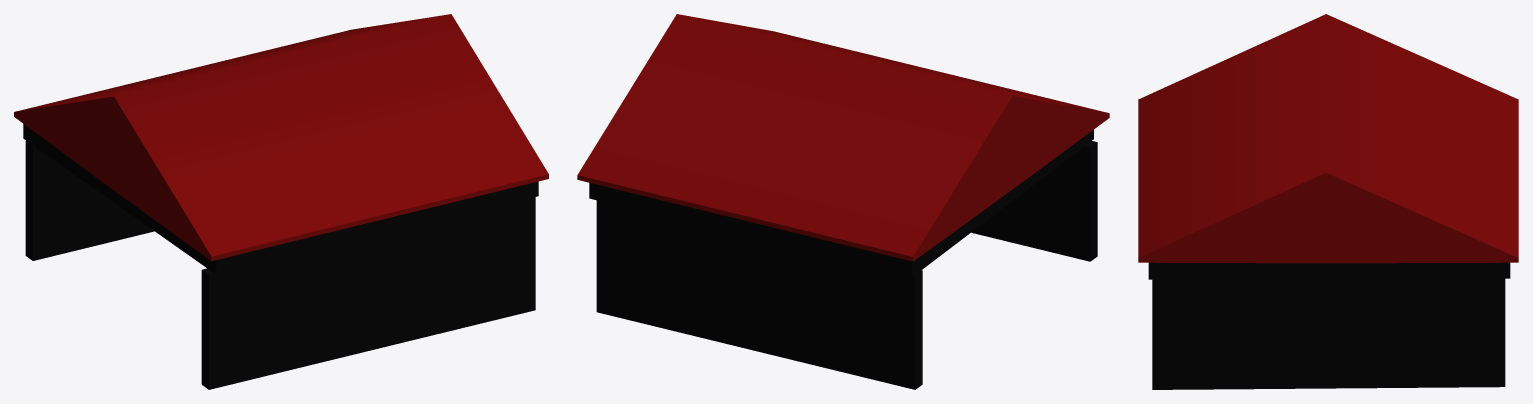
The model's file is House10.FBX.
3 views of the same model, side by side, from view 1: azimuth 30°, elevation 25°; view 2: azimuth 150°, elevation 25°; view 3: azimuth 270°, elevation 25° (orthographic). The views are drawn at different scales.
Visible parts, largest first — view 1: House10; view 2: House10; view 3: House10.
Part boxes in pixels (x1,y1,x2,y2): House10: (14, 14, 548, 389); House10: (577, 14, 1109, 389); House10: (1138, 14, 1518, 389).
Bounding box in the file's own units: 1162 × 1177 × 752.
